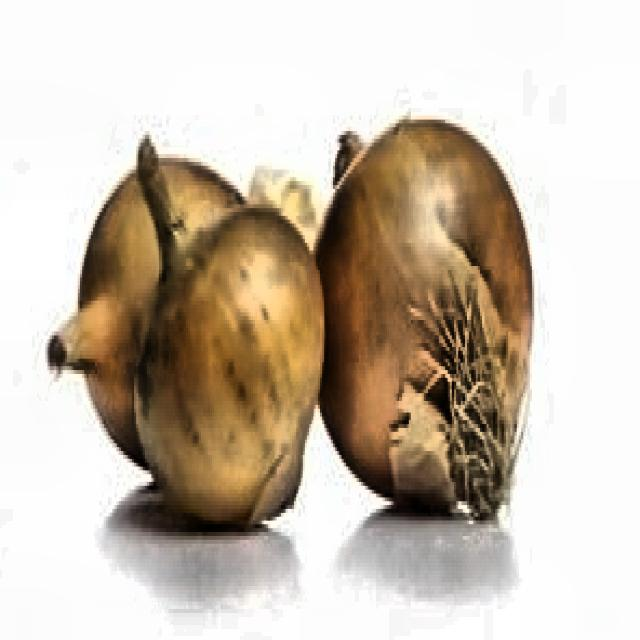Vegetable: (36, 26, 581, 630)
